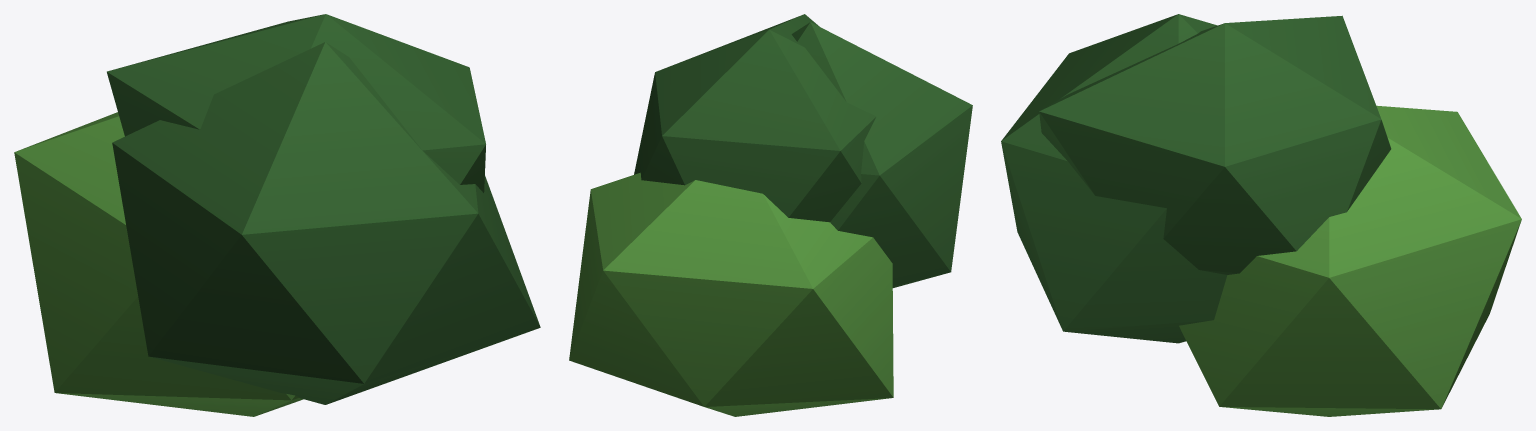
Rendered from bush_1.glb.
3 views of the same model, side by side, from view 1: azimuth 30°, elevation 25°; view 2: azimuth 150°, elevation 25°; view 3: azimuth 270°, elevation 25° (orthographic). The views are drawn at different scales.
Parts seen in each view (by area): view 1: bush_1; view 2: bush_1; view 3: bush_1.
Part boxes in pixels (x1,y1,x2,y2): bush_1: (14, 14, 540, 416); bush_1: (569, 14, 972, 416); bush_1: (1001, 14, 1521, 416).
Bounding box in the file's own units: 0.5542 × 0.6136 × 0.7236.
1 material, 1 textured.
